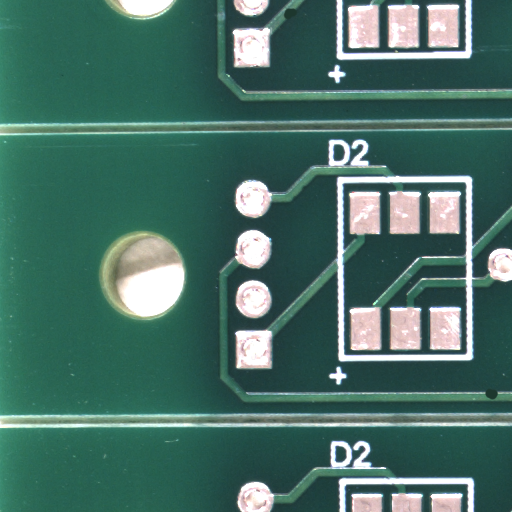Mouse_bite: (290, 14, 304, 25), (490, 394, 502, 403)
